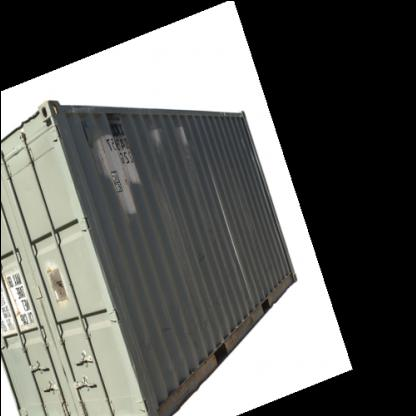Damage: (78, 128, 140, 215), (30, 256, 71, 302), (172, 121, 194, 161), (146, 122, 164, 148), (160, 317, 178, 334), (192, 243, 209, 259)
